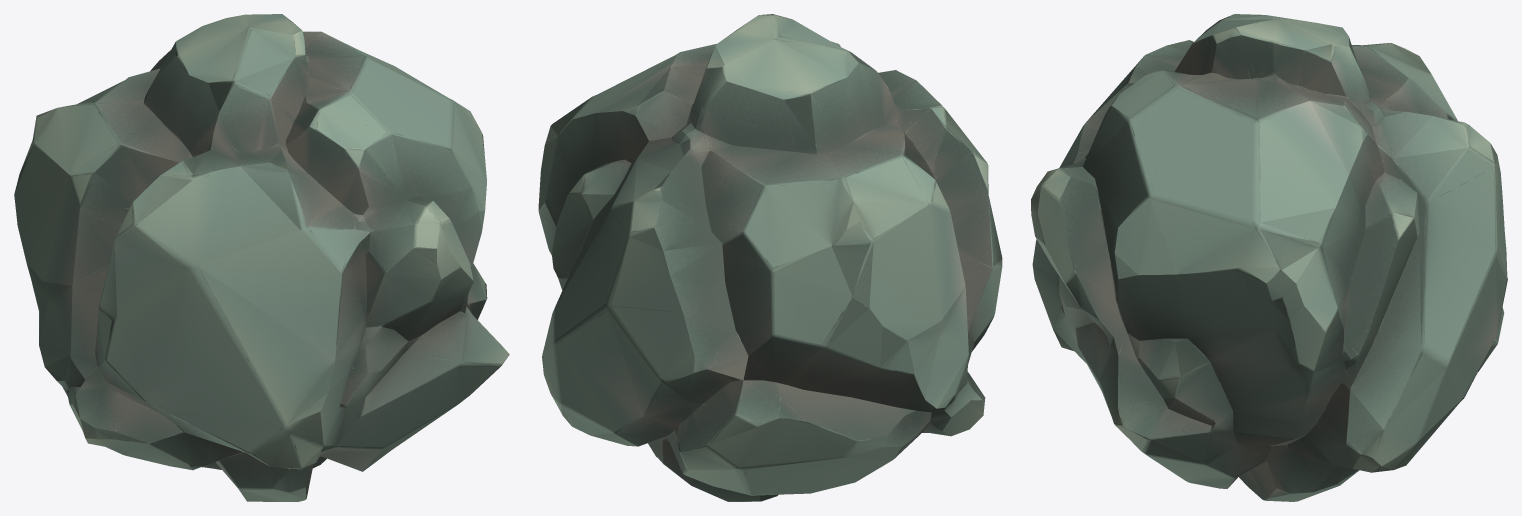
The model's file is Rock01.fbx.
3 views of the same model, side by side, from view 1: azimuth 30°, elevation 25°; view 2: azimuth 150°, elevation 25°; view 3: azimuth 270°, elevation 25° (orthographic).
Parts seen in each view (by area): view 1: Rock01; view 2: Rock01; view 3: Rock01.
Part boxes in pixels (bbox=[...]): Rock01: bbox=[14, 14, 509, 501]; Rock01: bbox=[538, 14, 1002, 501]; Rock01: bbox=[1031, 14, 1507, 501].
Bounding box in the file's own units: 196 × 211 × 196.
Materials: 1 (1 with a texture image).
